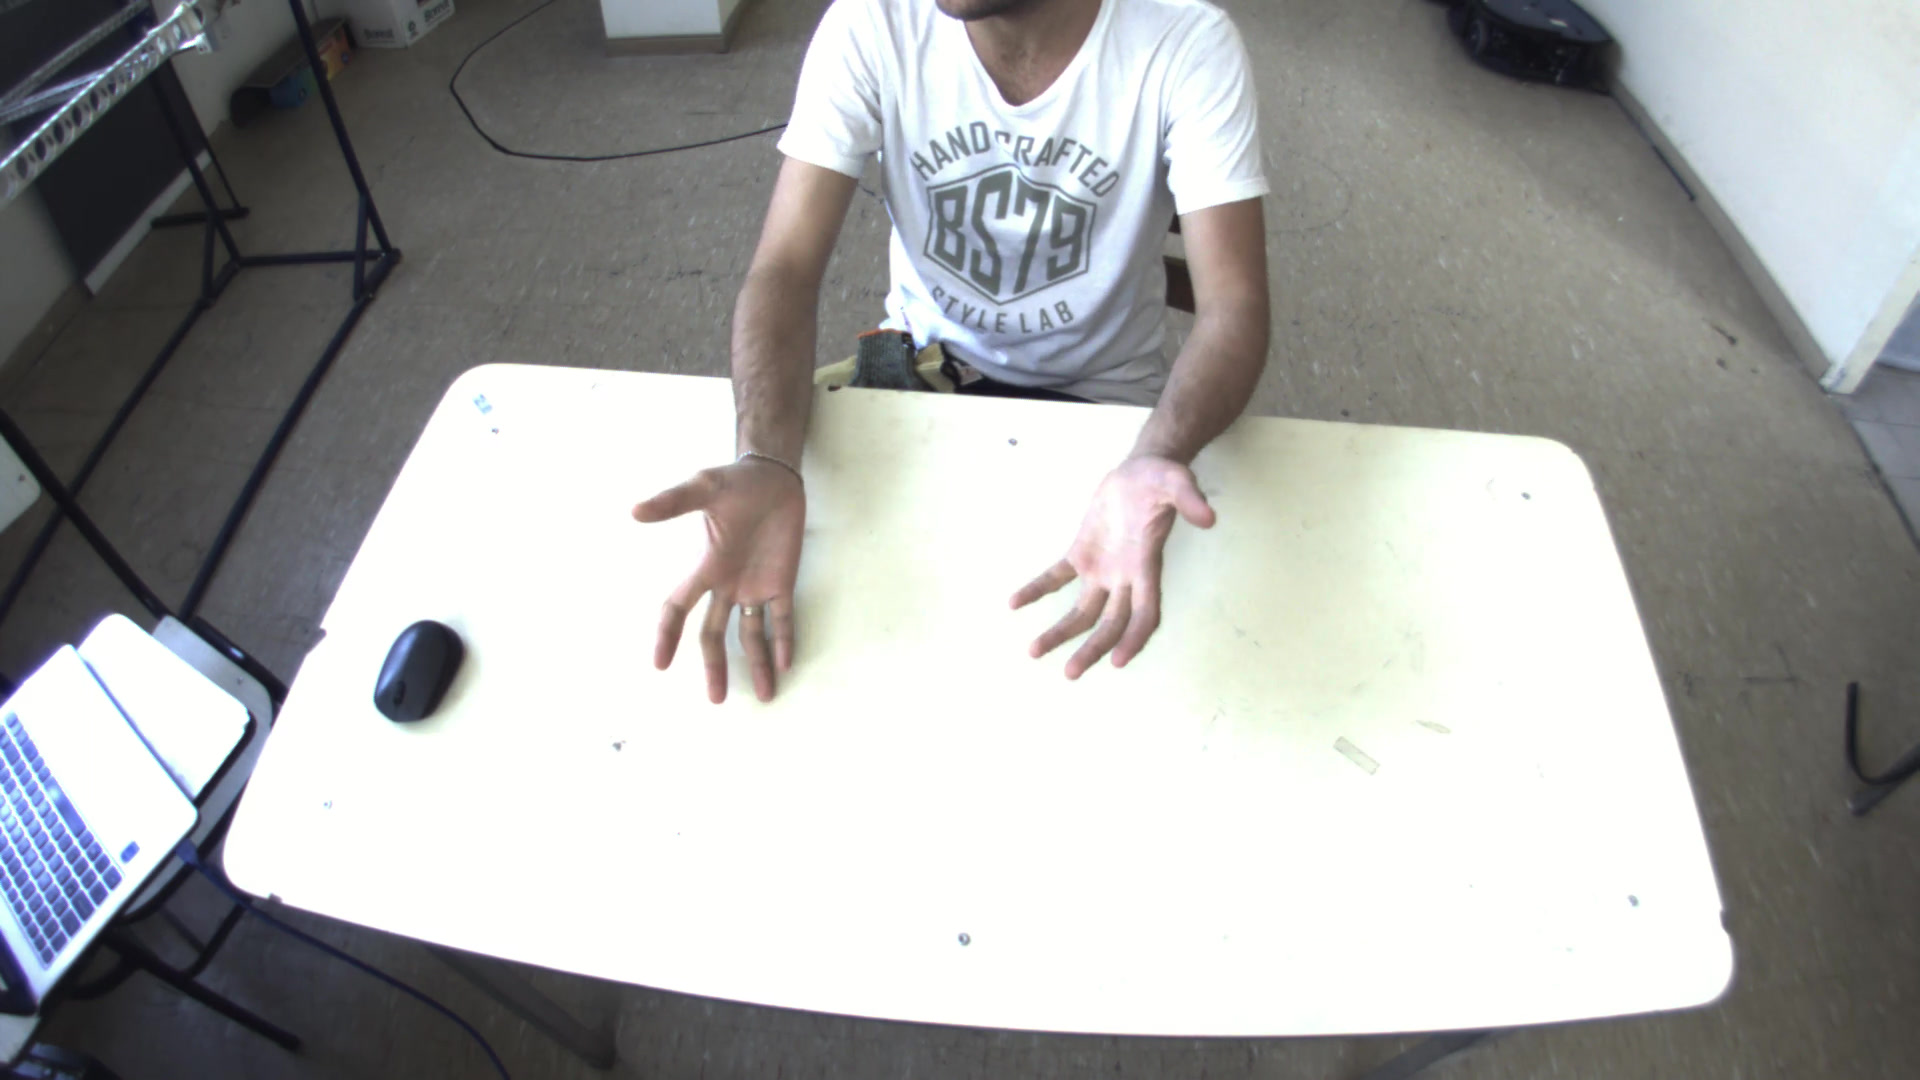hand: (620, 433, 823, 720), (1000, 446, 1228, 691)
